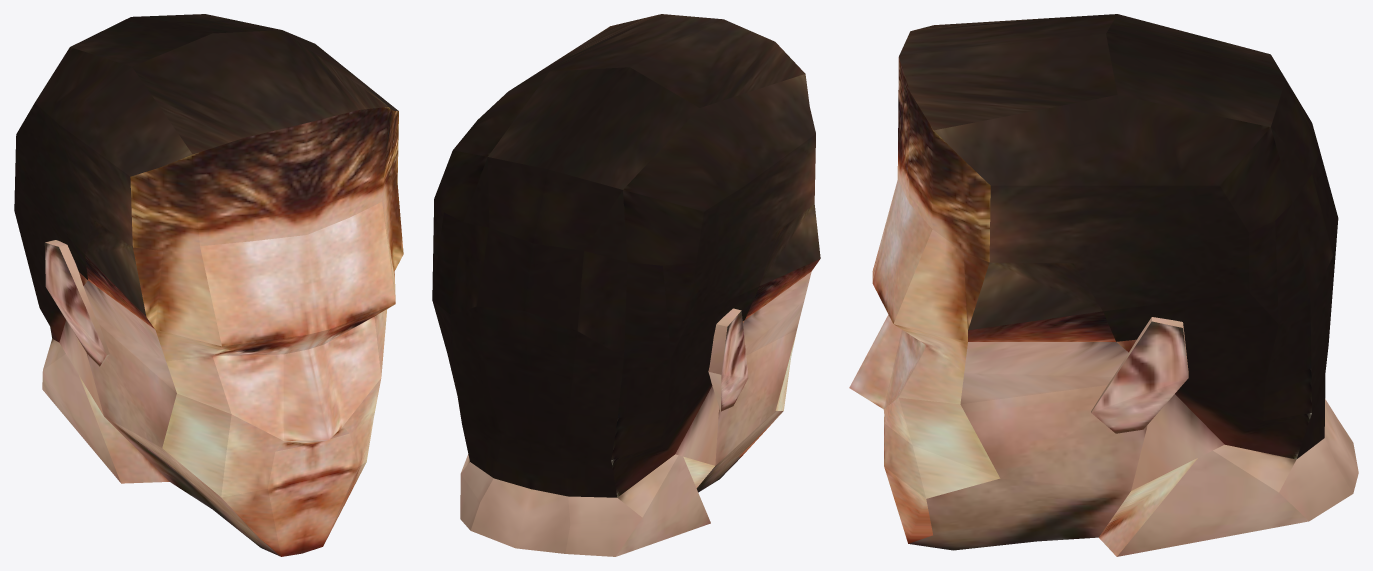
The model's file is head.glb.
The picture shows the model from 3 angles, left to right: view 1: azimuth 30°, elevation 25°; view 2: azimuth 150°, elevation 25°; view 3: azimuth 270°, elevation 25°; orthographic projection. The views are drawn at different scales.
Parts seen in each view (by area): view 1: head, oreilles; view 2: head, oreilles; view 3: head, oreilles.
Part boxes in pixels (box(x1,y1,x2,y2)): head: box(14, 14, 403, 556); oreilles: box(44, 240, 109, 366); head: box(432, 14, 820, 556); oreilles: box(708, 308, 748, 411); head: box(849, 14, 1358, 556); oreilles: box(1091, 317, 1188, 433).
Size of the model in its own units: 1.24 by 2.04 by 1.85.
2 materials, 2 textured.
